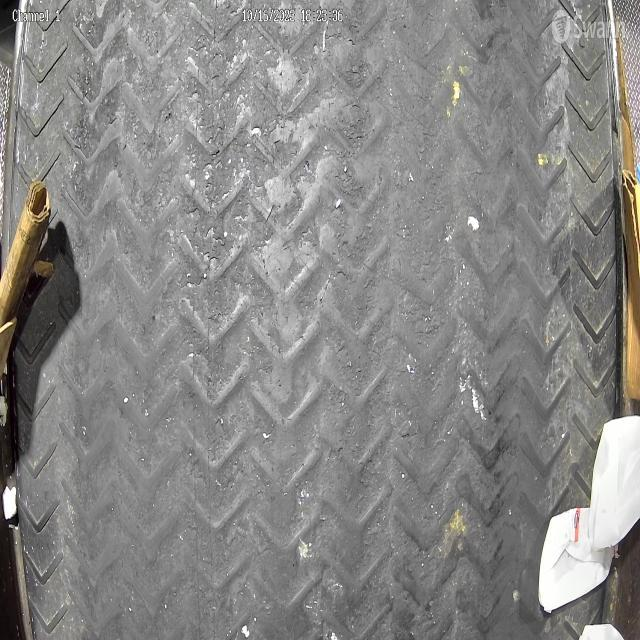milk_jug: (538, 506, 619, 613), (588, 413, 640, 550)
